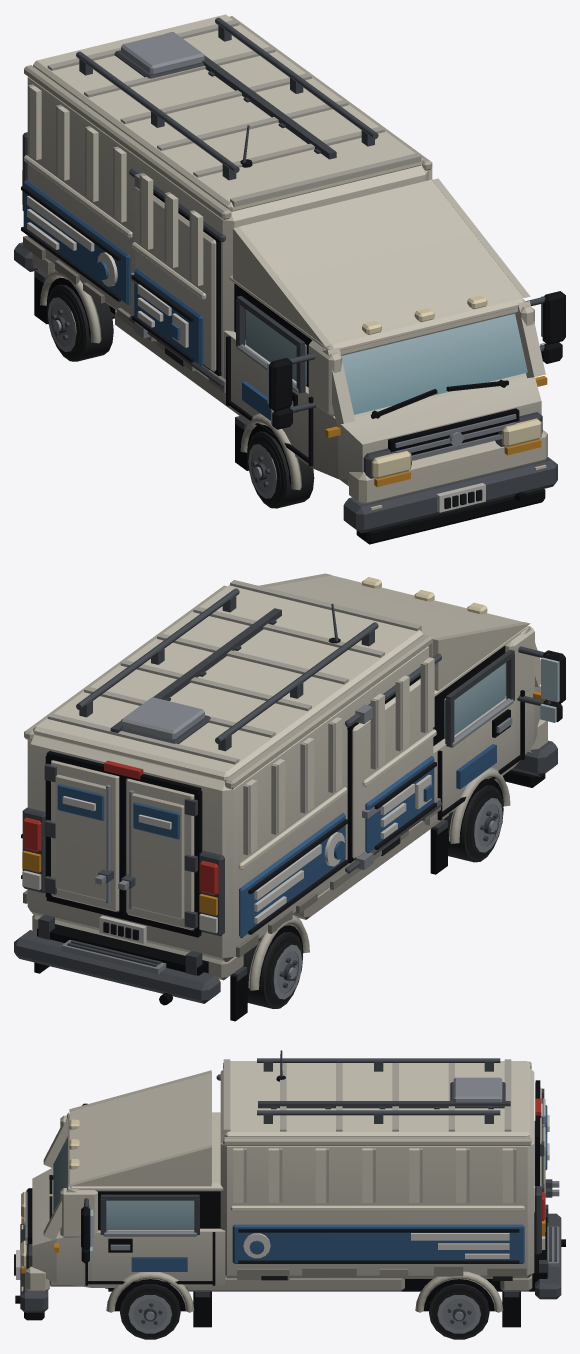
Rendered from delivery_van_01.glb.
The picture shows the model from 3 angles, top to bottom: view 1: azimuth 30°, elevation 25°; view 2: azimuth 150°, elevation 25°; view 3: azimuth 270°, elevation 25°; orthographic projection. The views are drawn at different scales.
Parts seen in each view (by area): view 1: delivery_van_01; view 2: delivery_van_01; view 3: delivery_van_01.
Part boxes in pixels (bbox=[...]): delivery_van_01: bbox=[14, 14, 565, 544]; delivery_van_01: bbox=[14, 573, 565, 1021]; delivery_van_01: bbox=[14, 1050, 565, 1339].
Size of the model in its own units: 1.82 by 1.78 by 3.83.
